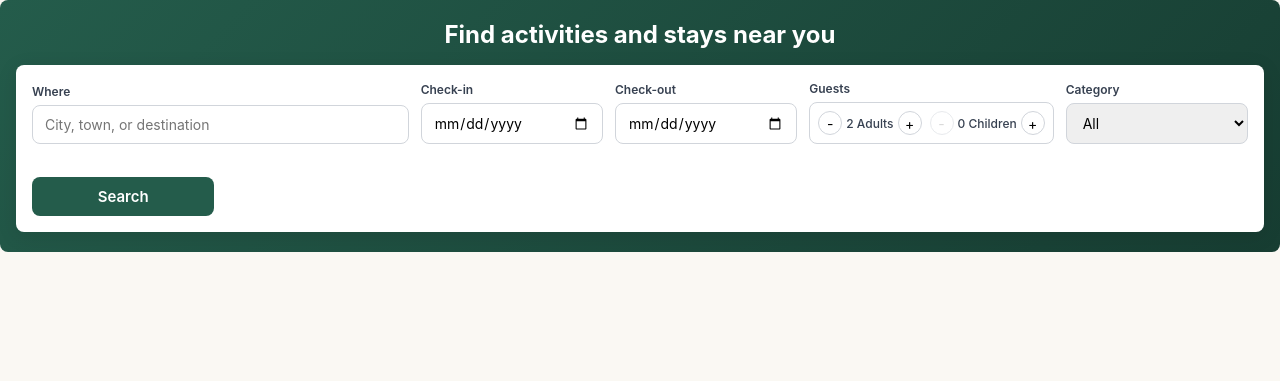
Scenario: SearchHero - Compact Layout › hides suggestions after quick search
The width and height of the screenshot is (1280, 381).
Focus the field labelled "Where" at (220, 124), box [32,105,409,144]
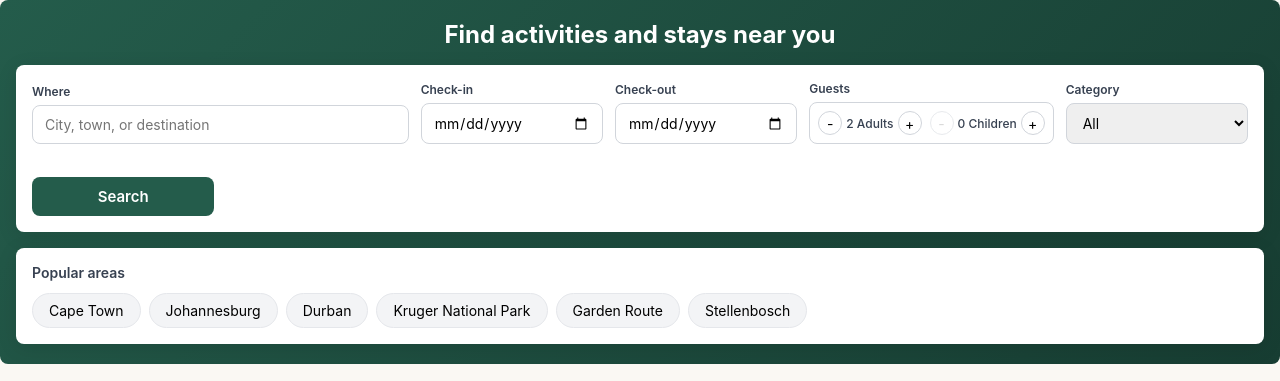
Expected: the button "Cape Town" is shown
Click the button "Cape Town" at (86, 310), box [32,293,141,328]
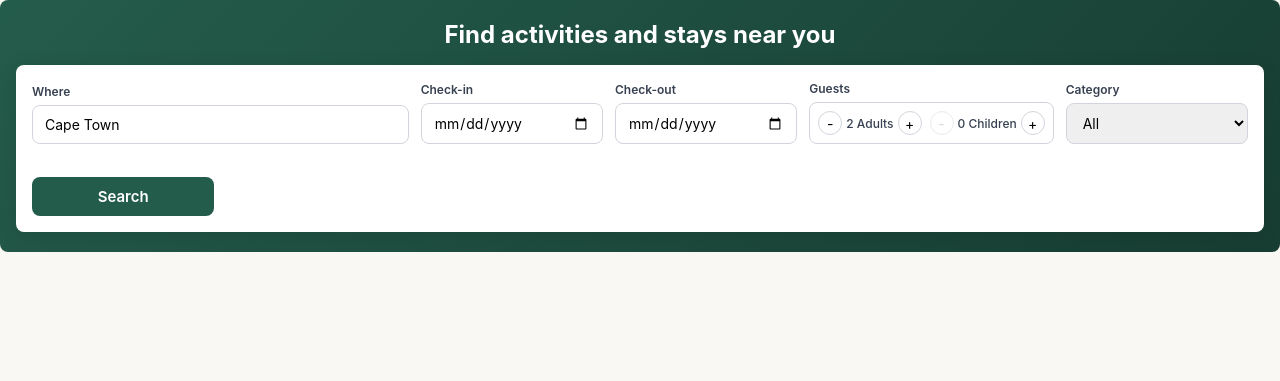
Expected: the heading "Popular areas" is gone
